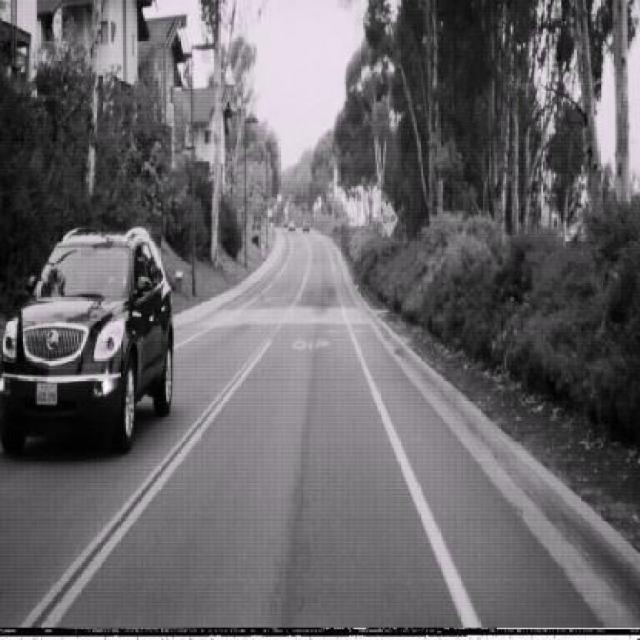dip: (380, 199, 398, 238)
